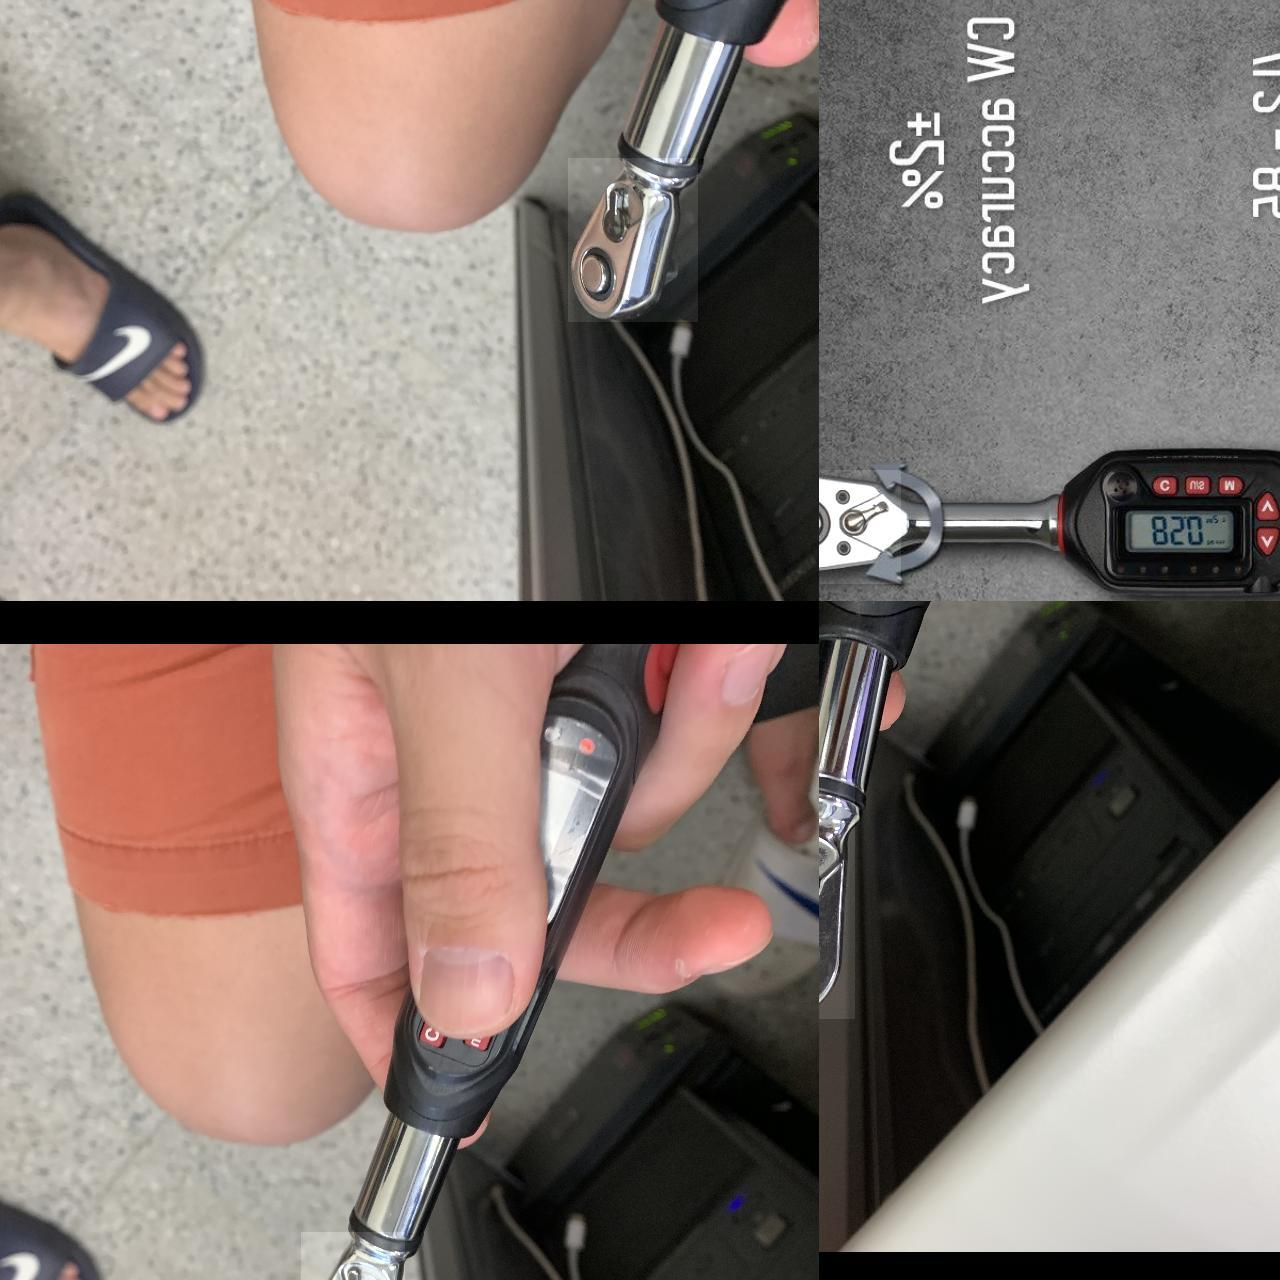Tool: (568, 157, 697, 321), (819, 469, 901, 583), (819, 778, 855, 1017), (301, 1231, 406, 1280)
